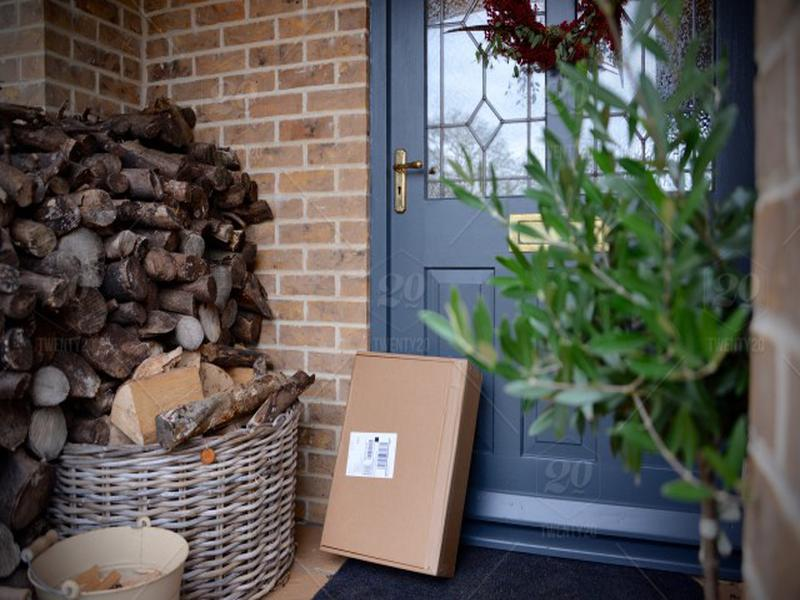package: (316, 344, 489, 584)
